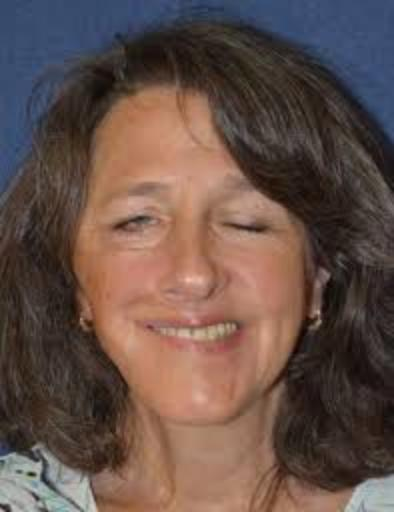left_eye: (219, 218, 279, 244)
left_lip_corner: (234, 312, 257, 337)
right_eye: (111, 212, 167, 239)
right_lip_corner: (135, 314, 161, 339)
